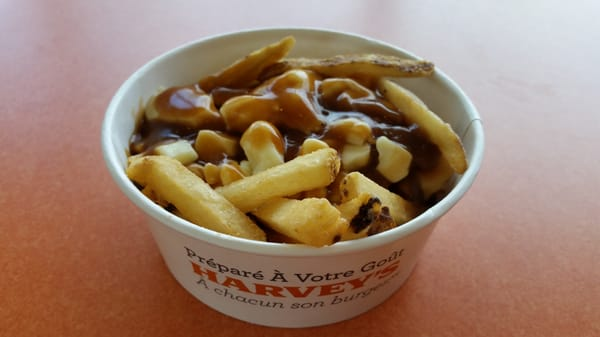steak: (378, 79, 467, 174)
sushi: (98, 23, 492, 327)
